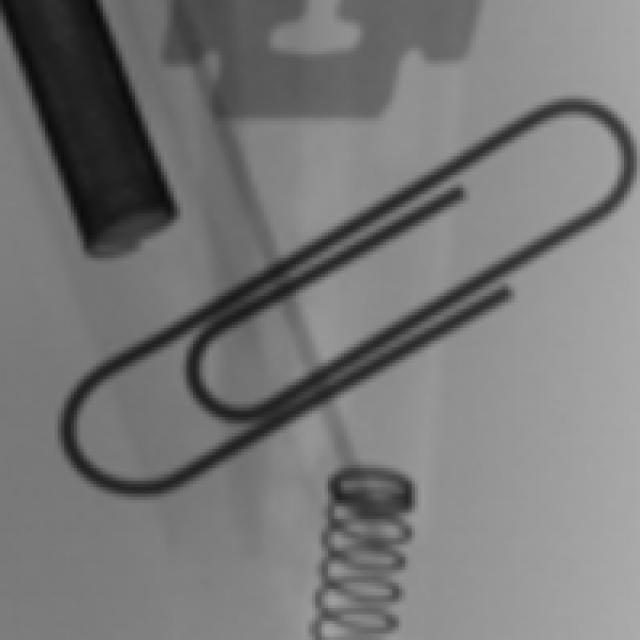GUN: (1, 1, 214, 300)
